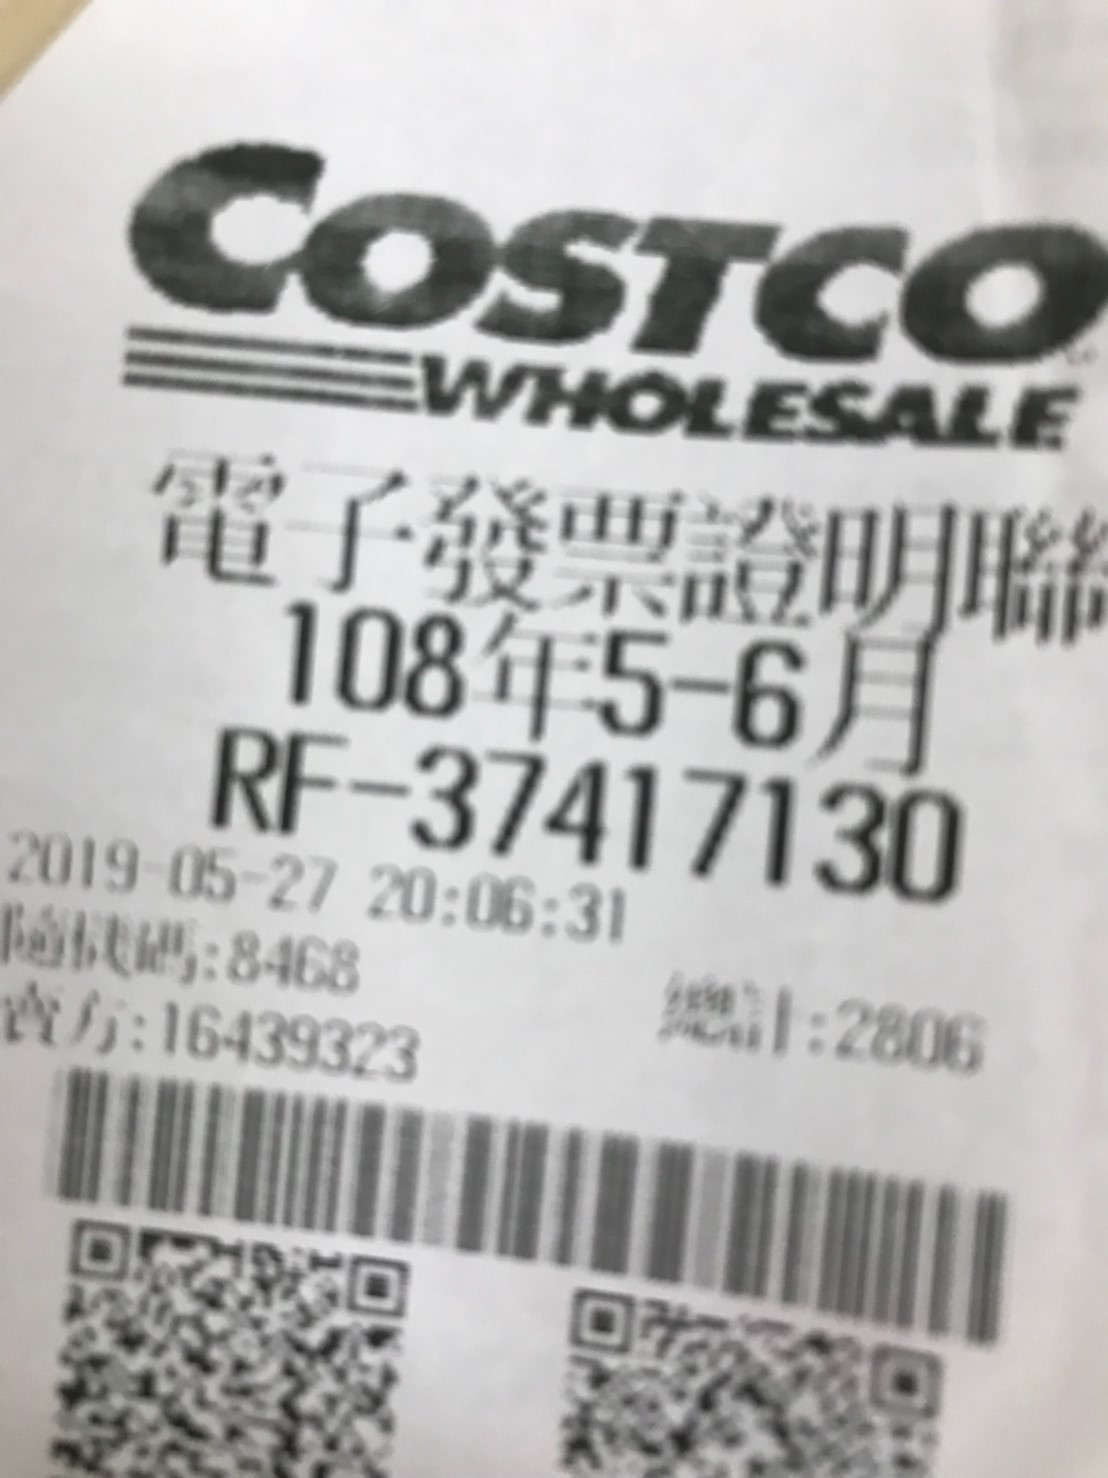Date_New: (277, 597, 940, 777)
Number_New: (400, 742, 970, 911)
